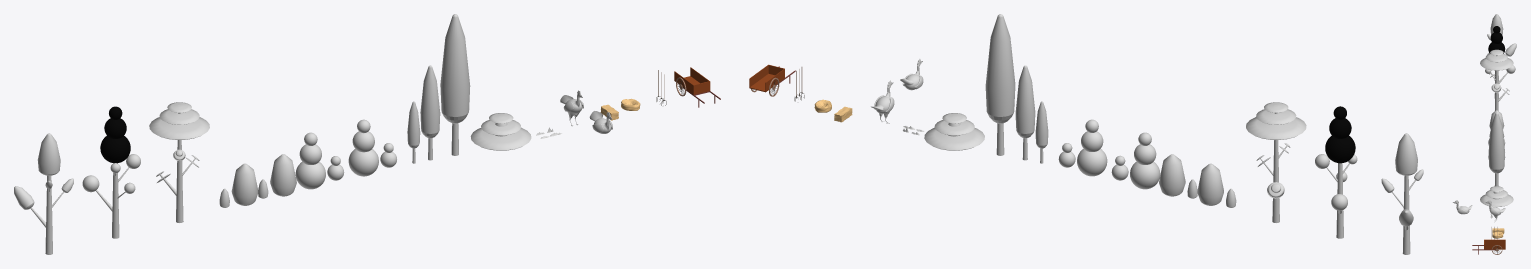
File: GHO-ASSETS.fbx
The picture shows the model from 3 angles, left to right: view 1: azimuth 30°, elevation 25°; view 2: azimuth 150°, elevation 25°; view 3: azimuth 270°, elevation 25°; orthographic projection. The views are drawn at different scales.
Parts seen in each view (by area): view 1: Cone014, Cone009, Sphere001, Cone022, Cone001, Sphere017, Sphere011, Cone025, Cone024, Cone028, Box058, Line097 (+3 smaller); view 2: Cone014, Cone009, Sphere001, Cone022, Sphere011, Sphere017, Cone001, Cone025, Cone024, Cone028, Box058, Line097 (+4 smaller); view 3: Cone014, Cone009, Cone022, Sphere001, Box058, Cone001, Line097, Sphere013, Sphere018, Cone028, Line093, Cylinder089 (+3 smaller).
Boxes of the visible parts, x1,y1,x2,y2 form: Cone014: [440, 14, 470, 123]; Cone009: [149, 102, 209, 183]; Sphere001: [82, 106, 140, 193]; Cone022: [470, 113, 531, 150]; Cone001: [14, 133, 73, 209]; Sphere017: [295, 132, 325, 189]; Sphere011: [348, 119, 378, 176]; Cone025: [420, 65, 440, 138]; Cone024: [270, 154, 296, 196]; Cone028: [231, 163, 258, 205]; Box058: [674, 67, 720, 107]; Line097: [160, 112, 195, 222]; Cone014: [985, 14, 1015, 123]; Cone009: [1246, 102, 1306, 198]; Sphere001: [1315, 106, 1357, 210]; Cone022: [924, 113, 984, 150]; Sphere011: [1077, 119, 1107, 176]; Sphere017: [1130, 132, 1160, 189]; Cone001: [1381, 133, 1423, 226]; Cone025: [1015, 65, 1035, 138]; Cone024: [1159, 154, 1185, 196]; Cone028: [1197, 163, 1223, 205]; Box058: [749, 64, 795, 92]; Line097: [1260, 112, 1287, 222]; Cone014: [1488, 112, 1504, 173]; Cone009: [1480, 49, 1513, 94]; Cone022: [1480, 186, 1513, 207]; Sphere001: [1485, 26, 1515, 73]; Box058: [1472, 239, 1505, 254]; Cone001: [1487, 14, 1516, 56]; Line097: [1491, 55, 1507, 110]; Sphere013: [1488, 201, 1505, 218]; Sphere018: [1455, 201, 1472, 214]; Cone028: [1489, 110, 1504, 129]; Line093: [1491, 71, 1507, 98]; Cylinder089: [1492, 232, 1503, 238].
Bounding box in the file's own units: 4018 × 809 × 599.
